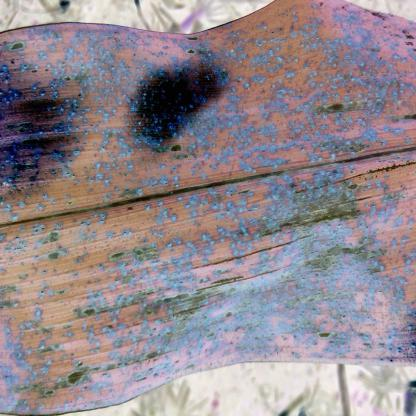corn rust leaf: (3, 6, 416, 412)
